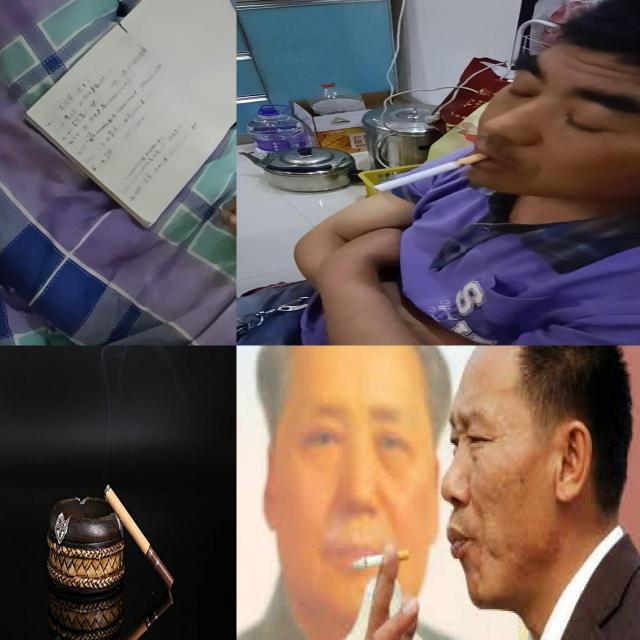smoke: (104, 483, 174, 590), (373, 153, 489, 192), (124, 588, 174, 640), (352, 550, 409, 571)
